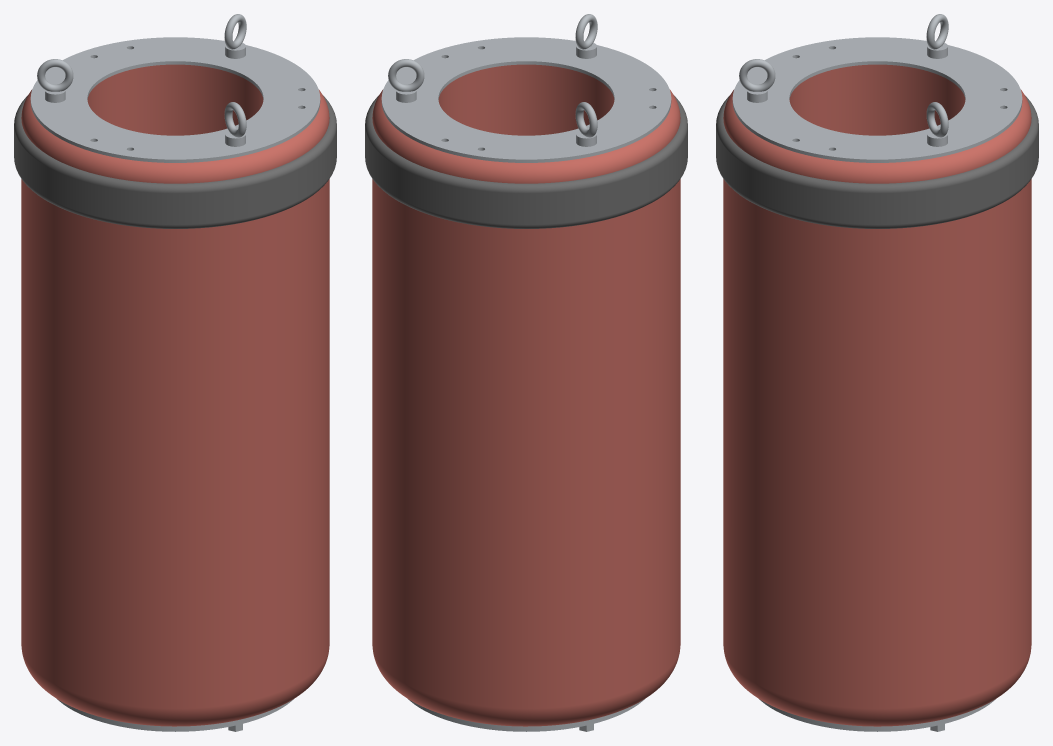
File: esp2024_sa1_float.glb
3 views of the same model, side by side, from view 1: azimuth 30°, elevation 25°; view 2: azimuth 150°, elevation 25°; view 3: azimuth 270°, elevation 25° (orthographic).
Visible parts, largest first — view 1: float hull, deck plate, fender ring, keel plate, lifting eye nut 2, lifting eye nut 3, lifting eye nut 1; view 2: float hull, deck plate, fender ring, keel plate, lifting eye nut 1, lifting eye nut 2, lifting eye nut 3; view 3: float hull, deck plate, fender ring, keel plate, lifting eye nut 3, lifting eye nut 1, lifting eye nut 2.
Part boxes in pixels (bbox=[...]): float hull: bbox=[21, 64, 329, 726]; deck plate: bbox=[30, 37, 320, 162]; fender ring: bbox=[14, 95, 336, 228]; keel plate: bbox=[57, 699, 293, 731]; lifting eye nut 2: bbox=[37, 59, 73, 102]; lifting eye nut 3: bbox=[224, 102, 246, 146]; lifting eye nut 1: bbox=[224, 14, 246, 58]; float hull: bbox=[372, 64, 680, 726]; deck plate: bbox=[381, 37, 671, 162]; fender ring: bbox=[365, 95, 687, 228]; keel plate: bbox=[408, 699, 644, 731]; lifting eye nut 1: bbox=[388, 59, 424, 102]; lifting eye nut 2: bbox=[575, 102, 597, 146]; lifting eye nut 3: bbox=[575, 14, 597, 58]; float hull: bbox=[723, 64, 1031, 726]; deck plate: bbox=[732, 37, 1022, 162]; fender ring: bbox=[716, 95, 1038, 228]; keel plate: bbox=[759, 699, 995, 731]; lifting eye nut 3: bbox=[739, 59, 775, 102]; lifting eye nut 1: bbox=[926, 102, 948, 146]; lifting eye nut 2: bbox=[926, 14, 948, 58].
Bounding box in the file's own units: 524 × 1121 × 524.
